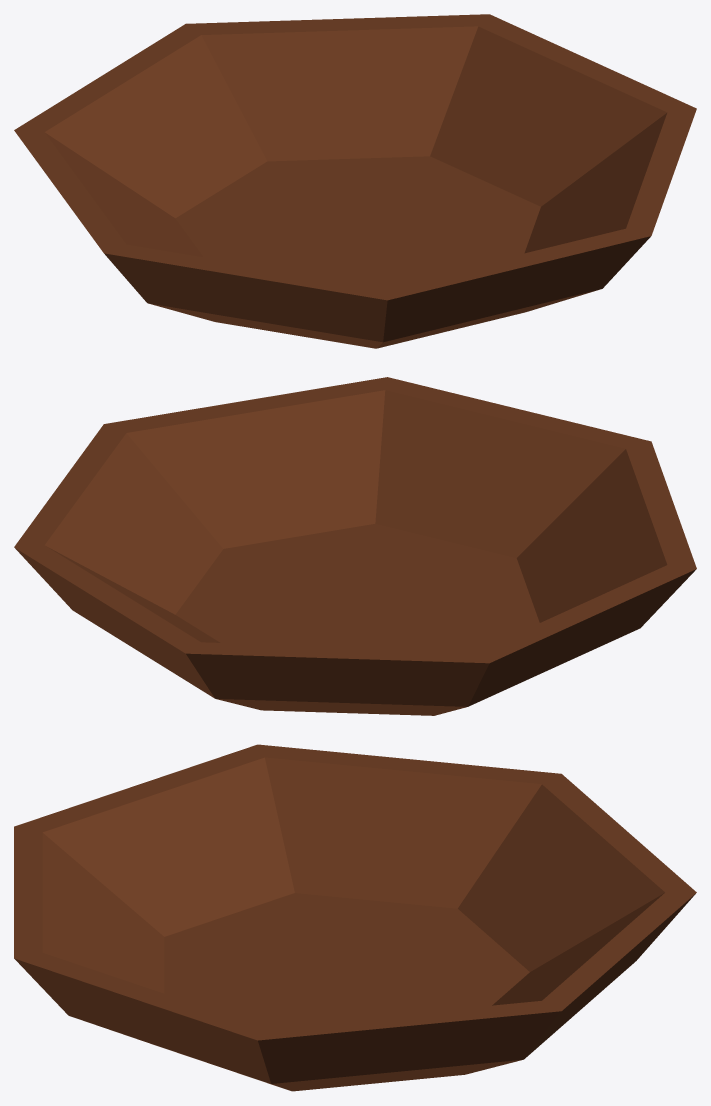
File: Bowl.fbx
3 views of the same model, one above another, from view 1: azimuth 30°, elevation 25°; view 2: azimuth 150°, elevation 25°; view 3: azimuth 270°, elevation 25° (orthographic). The views are drawn at different scales.
Parts seen in each view (by area): view 1: Bowl; view 2: Bowl; view 3: Bowl.
Boxes of the visible parts, x1,y1,x2,y2 form: Bowl: (14,14,696,348); Bowl: (14,377,696,715); Bowl: (14,744,696,1091).
Size of the model in its own units: 104 by 18.72 by 101.
